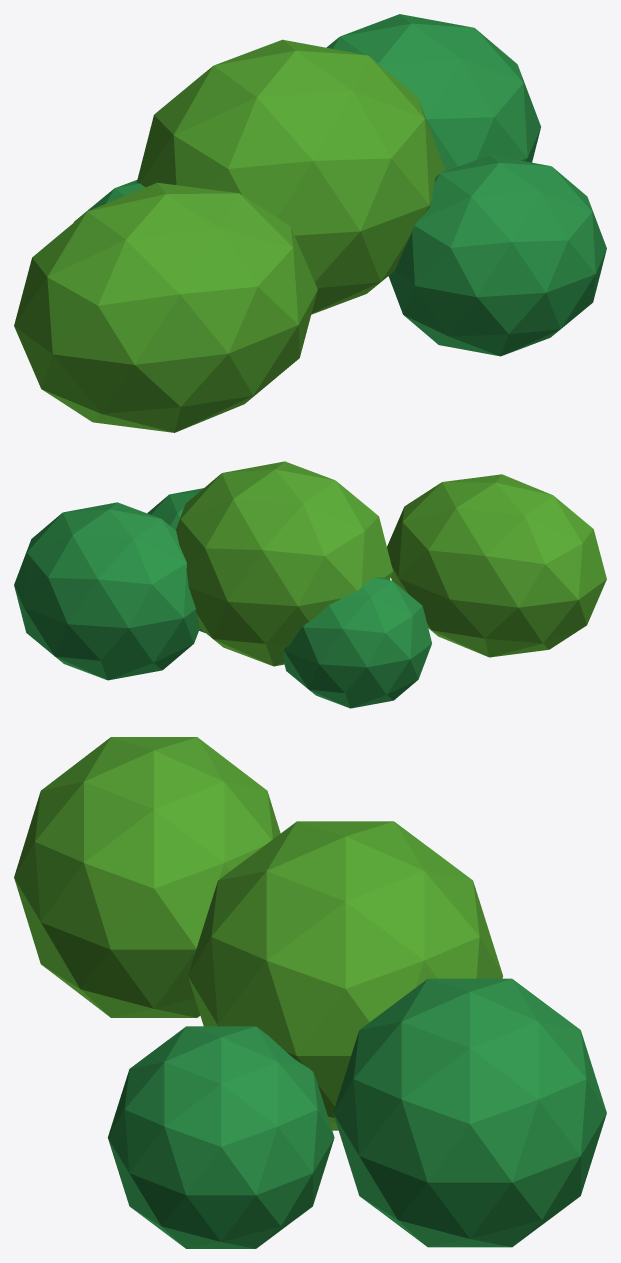
The model's file is tree_4.glb.
The picture shows the model from 3 angles, top to bottom: view 1: azimuth 30°, elevation 25°; view 2: azimuth 150°, elevation 25°; view 3: azimuth 270°, elevation 25°; orthographic projection. The views are drawn at different scales.
Visible parts, largest first — view 1: Icosphere.001, Icosphere.004, Icosphere.003, Icosphere.002; view 2: Icosphere.001, Icosphere.004, Icosphere.002, Icosphere, Icosphere.003; view 3: Icosphere.002, Icosphere.004, Icosphere.001, Icosphere.003.
Boxes of the visible parts, box(x1,y1,x2,y2) form: Icosphere.001: box(14, 182, 317, 432); Icosphere.004: box(136, 39, 445, 314); Icosphere.003: box(388, 155, 606, 356); Icosphere.002: box(326, 14, 540, 171); Icosphere.001: box(387, 474, 606, 657); Icosphere.004: box(175, 461, 392, 666); Icosphere.002: box(14, 502, 199, 680); Icosphere: box(284, 577, 431, 708); Icosphere.003: box(147, 488, 205, 633); Icosphere.002: box(333, 978, 606, 1247); Icosphere.004: box(188, 821, 502, 1130); Icosphere.001: box(14, 737, 280, 1017); Icosphere.003: box(107, 1026, 334, 1248).
Bounding box in the file's own units: 10.04 × 4.43 × 7.32.
